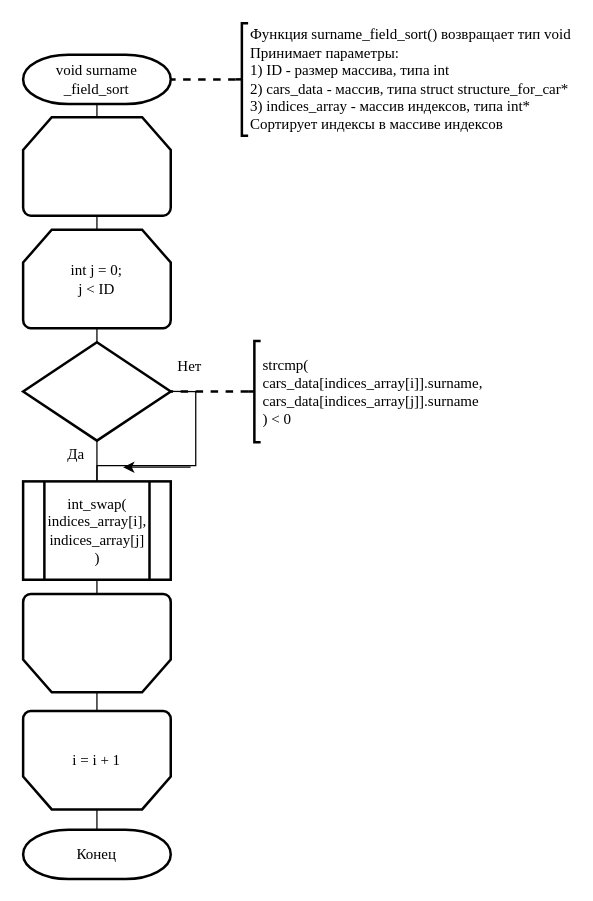
Image size: 593x901. Some labels were removed from this diagram. Here are the shapes that lost their labels. From the top down, the centre of each, then its label:
At (x=96, y=165): "int i = 0; i < ID".
At (x=96, y=642): "j = j + 1".
